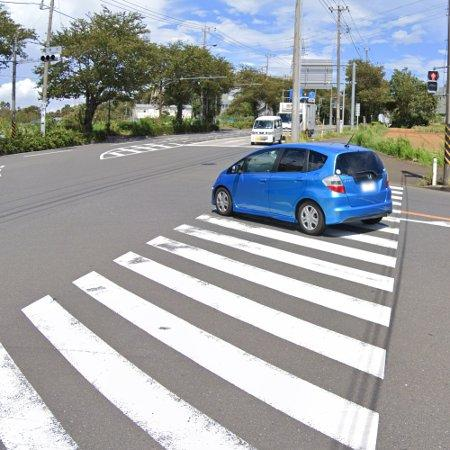crosswalks: (0, 185, 406, 450)
